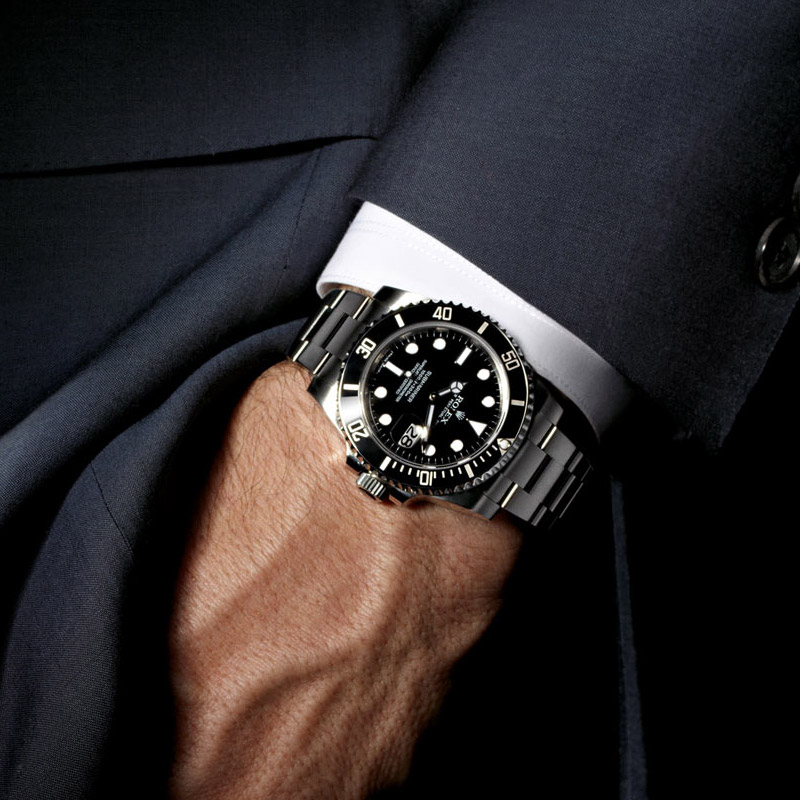clock: (365, 325, 507, 468)
